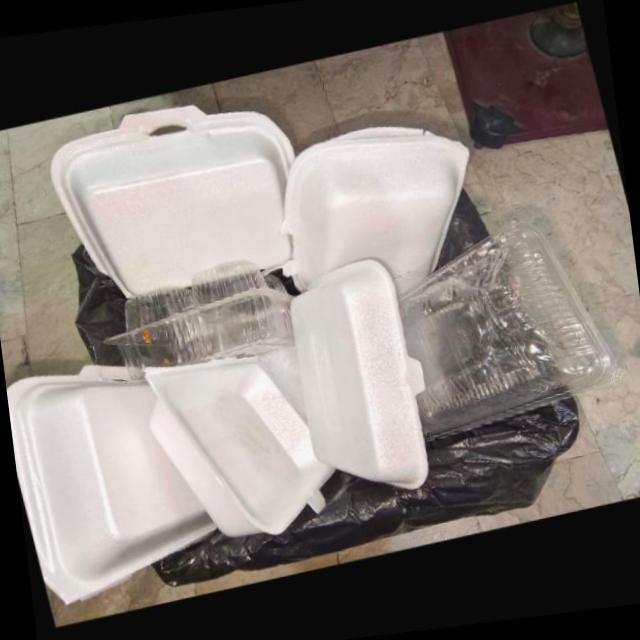hop_nhua: (400, 220, 619, 443), (104, 260, 296, 380)
xop: (6, 365, 218, 606), (51, 104, 297, 300), (144, 357, 336, 538), (280, 126, 472, 299), (291, 257, 429, 491)
